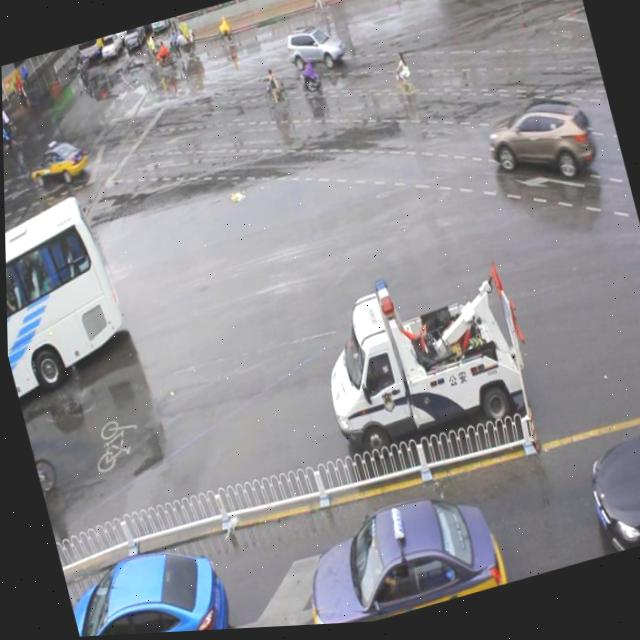bus: (303, 247, 540, 473)
car: (288, 480, 504, 629), (60, 534, 239, 638), (478, 91, 599, 206), (572, 410, 640, 562), (283, 21, 348, 83)
van: (3, 189, 137, 408)
